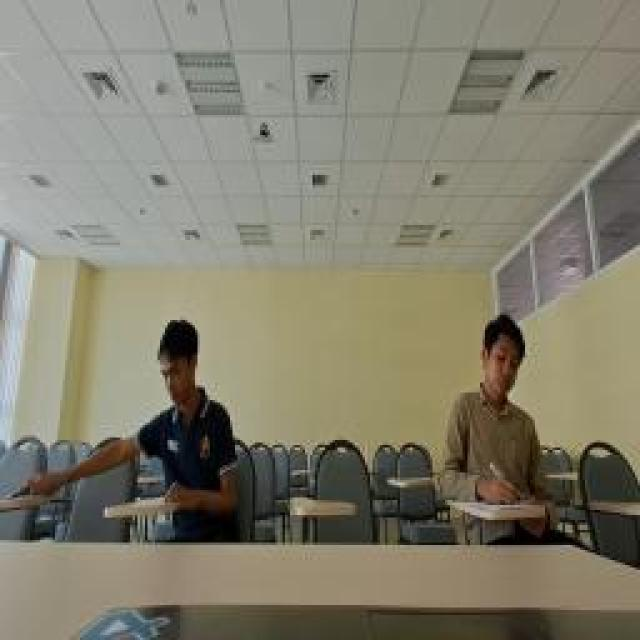study: (440, 312, 548, 510), (135, 317, 235, 505)
